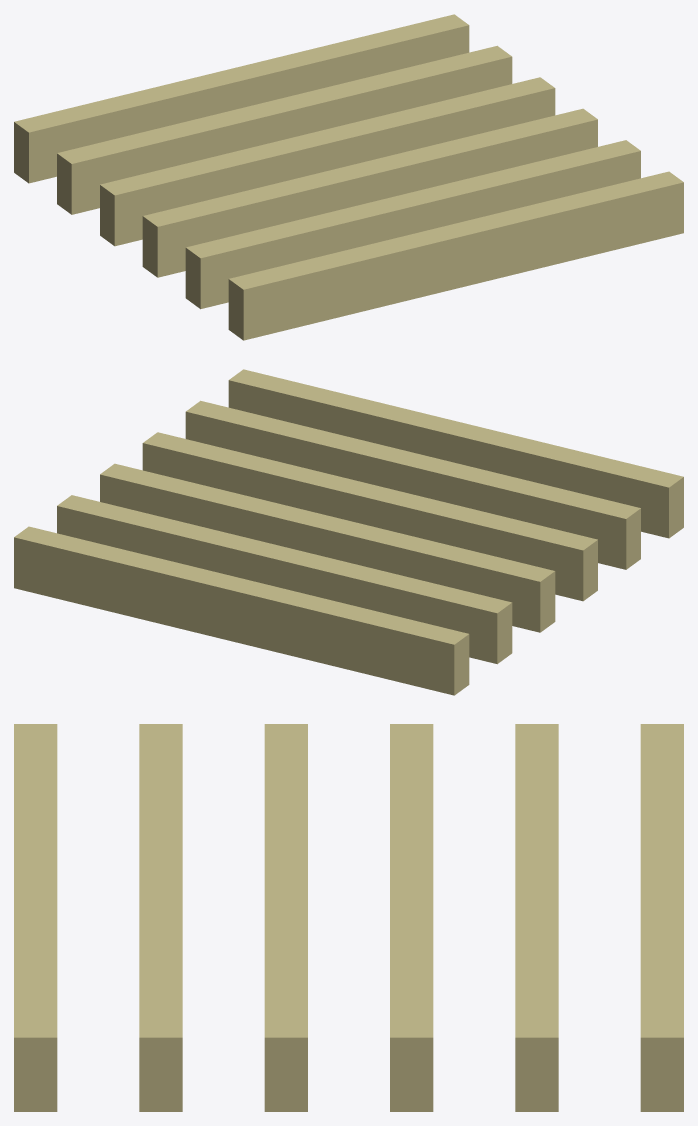
The picture shows the model from 3 angles, top to bottom: view 1: azimuth 30°, elevation 25°; view 2: azimuth 150°, elevation 25°; view 3: azimuth 270°, elevation 25°; orthographic projection. The views are drawn at different scales.
Size of the model in its own units: 7.7 by 0.85 by 6.95.
